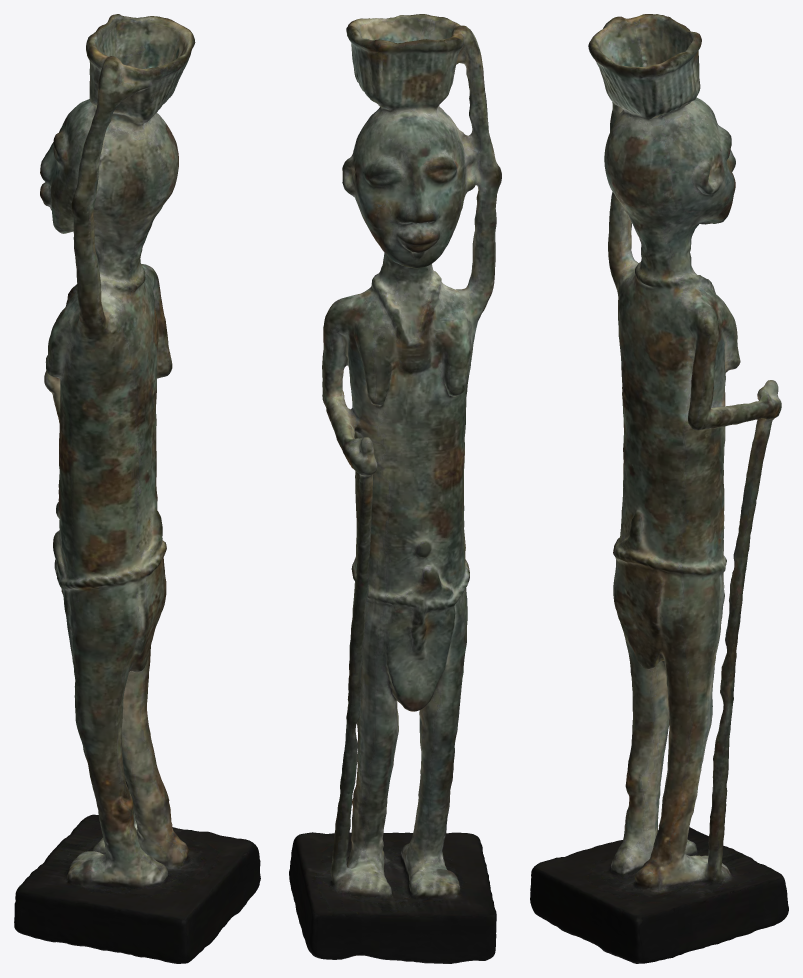
The model's file is preview.glb.
3 renders of one model, left to right at view 1: azimuth 30°, elevation 25°; view 2: azimuth 150°, elevation 25°; view 3: azimuth 270°, elevation 25°, orthographic.
Visible parts, largest first — view 1: Object_2; view 2: Object_2; view 3: Object_2.
Boxes of the visible parts, bbox=[...] form: Object_2: bbox=[14, 14, 260, 963]; Object_2: bbox=[289, 14, 501, 963]; Object_2: bbox=[530, 14, 788, 963].
Size of the model in its own units: 171 by 650 by 172.
1 material, 1 textured.
